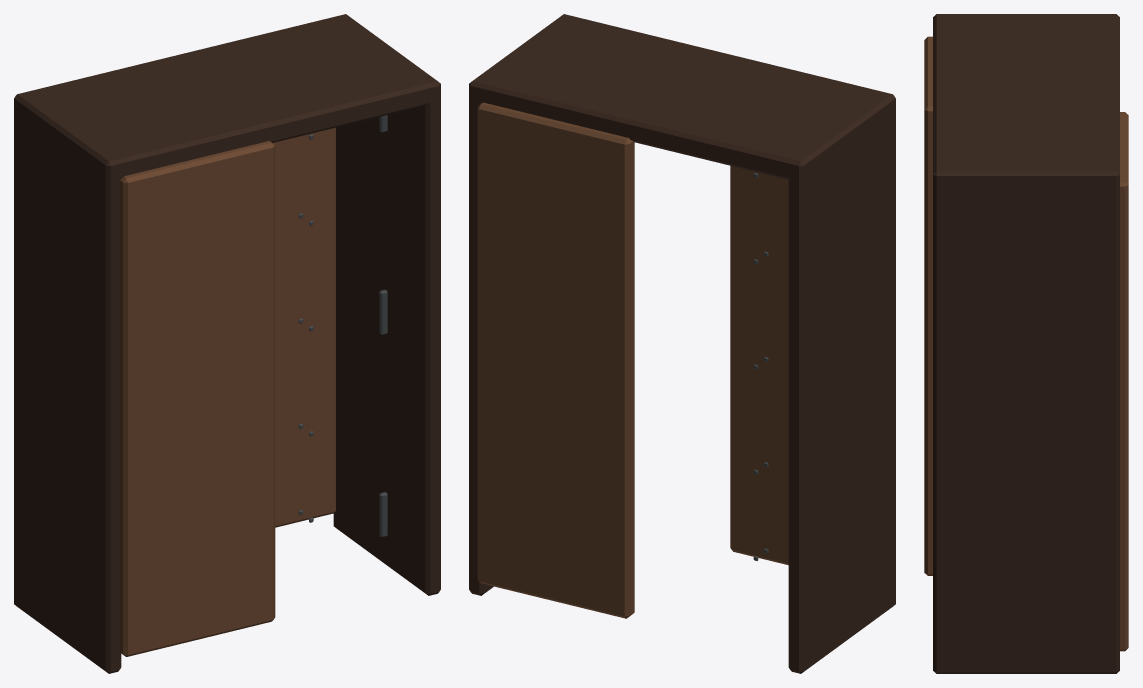
Rendered from oak_door_open.glb.
3 renders of one model, left to right at view 1: azimuth 30°, elevation 25°; view 2: azimuth 150°, elevation 25°; view 3: azimuth 270°, elevation 25°, orthographic.
Parts seen in each view (by area): view 1: Hoja, Jamba, Jamba.001, Dintel, Hoja.002; view 2: Hoja.002, Jamba, Dintel, Hoja, Jamba.001; view 3: Jamba.001, Dintel, Hoja, Hoja.002, Jamba.
Part boxes in pixels (x1=…): Hoja: x1=120, y1=141, x2=275, y2=656; Jamba: x1=14, y1=93, x2=121, y2=673; Jamba.001: x1=333, y1=14, x2=440, y2=595; Dintel: x1=14, y1=14, x2=440, y2=180; Hoja.002: x1=272, y1=127, x2=335, y2=527; Hoja.002: x1=477, y1=102, x2=634, y2=618; Jamba: x1=788, y1=92, x2=895, y2=673; Dintel: x1=469, y1=14, x2=895, y2=180; Hoja: x1=730, y1=165, x2=788, y2=565; Jamba.001: x1=469, y1=14, x2=566, y2=595; Jamba.001: x1=933, y1=167, x2=1119, y2=673; Dintel: x1=933, y1=14, x2=1119, y2=190; Hoja: x1=924, y1=36, x2=932, y2=575; Hoja.002: x1=1120, y1=112, x2=1128, y2=651; Jamba: x1=933, y1=14, x2=1119, y2=20.
Bounding box in the file's own units: 2.6 × 3.8 × 1.4.
